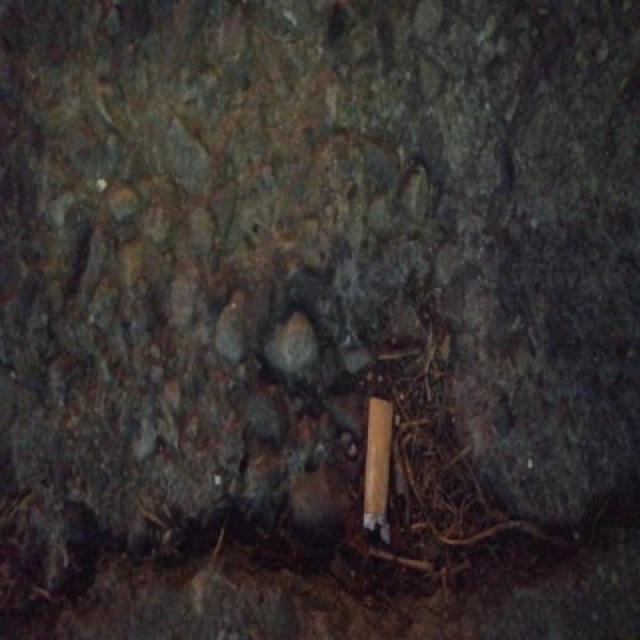non-organic waste: (358, 393, 398, 548)
